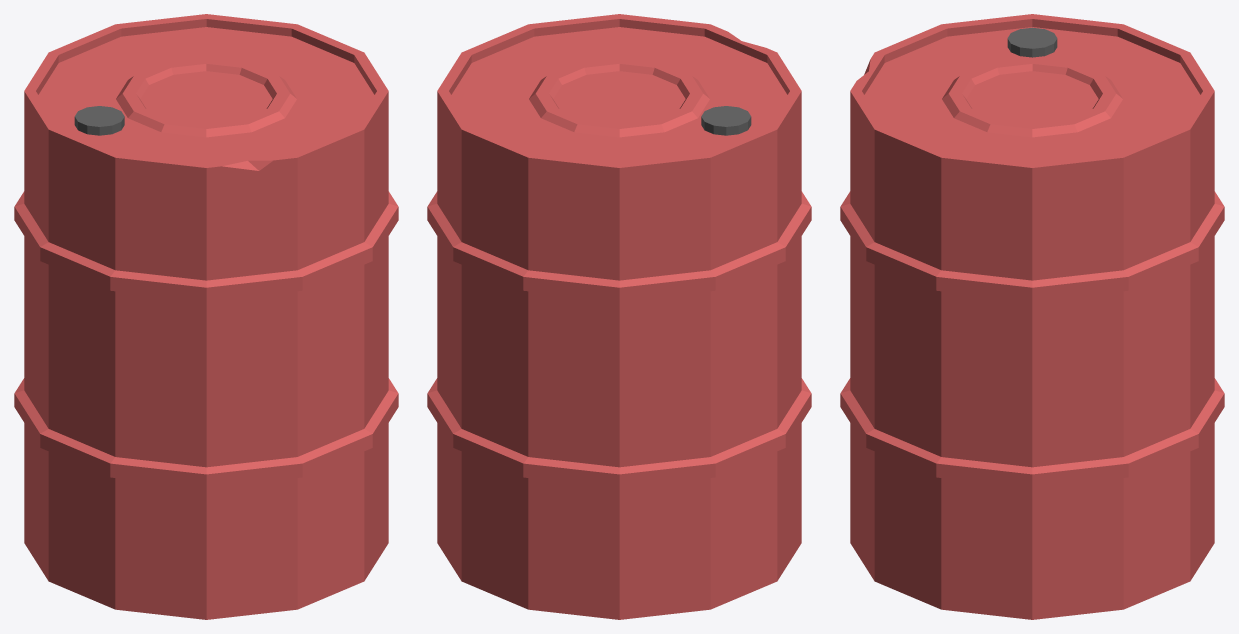
Rendered from Wh_Barrel_02.fbx.
3 views of the same model, side by side, from view 1: azimuth 30°, elevation 25°; view 2: azimuth 150°, elevation 25°; view 3: azimuth 270°, elevation 25° (orthographic).
Parts seen in each view (by area): view 1: Cylinder.059; view 2: Cylinder.059; view 3: Cylinder.059.
Boxes of the visible parts, <box> form: Cylinder.059: <box>14,14,398,619</box>; Cylinder.059: <box>427,14,811,619</box>; Cylinder.059: <box>840,14,1224,619</box>.
Bounding box in the file's own units: 76.93 × 100 × 76.93.
